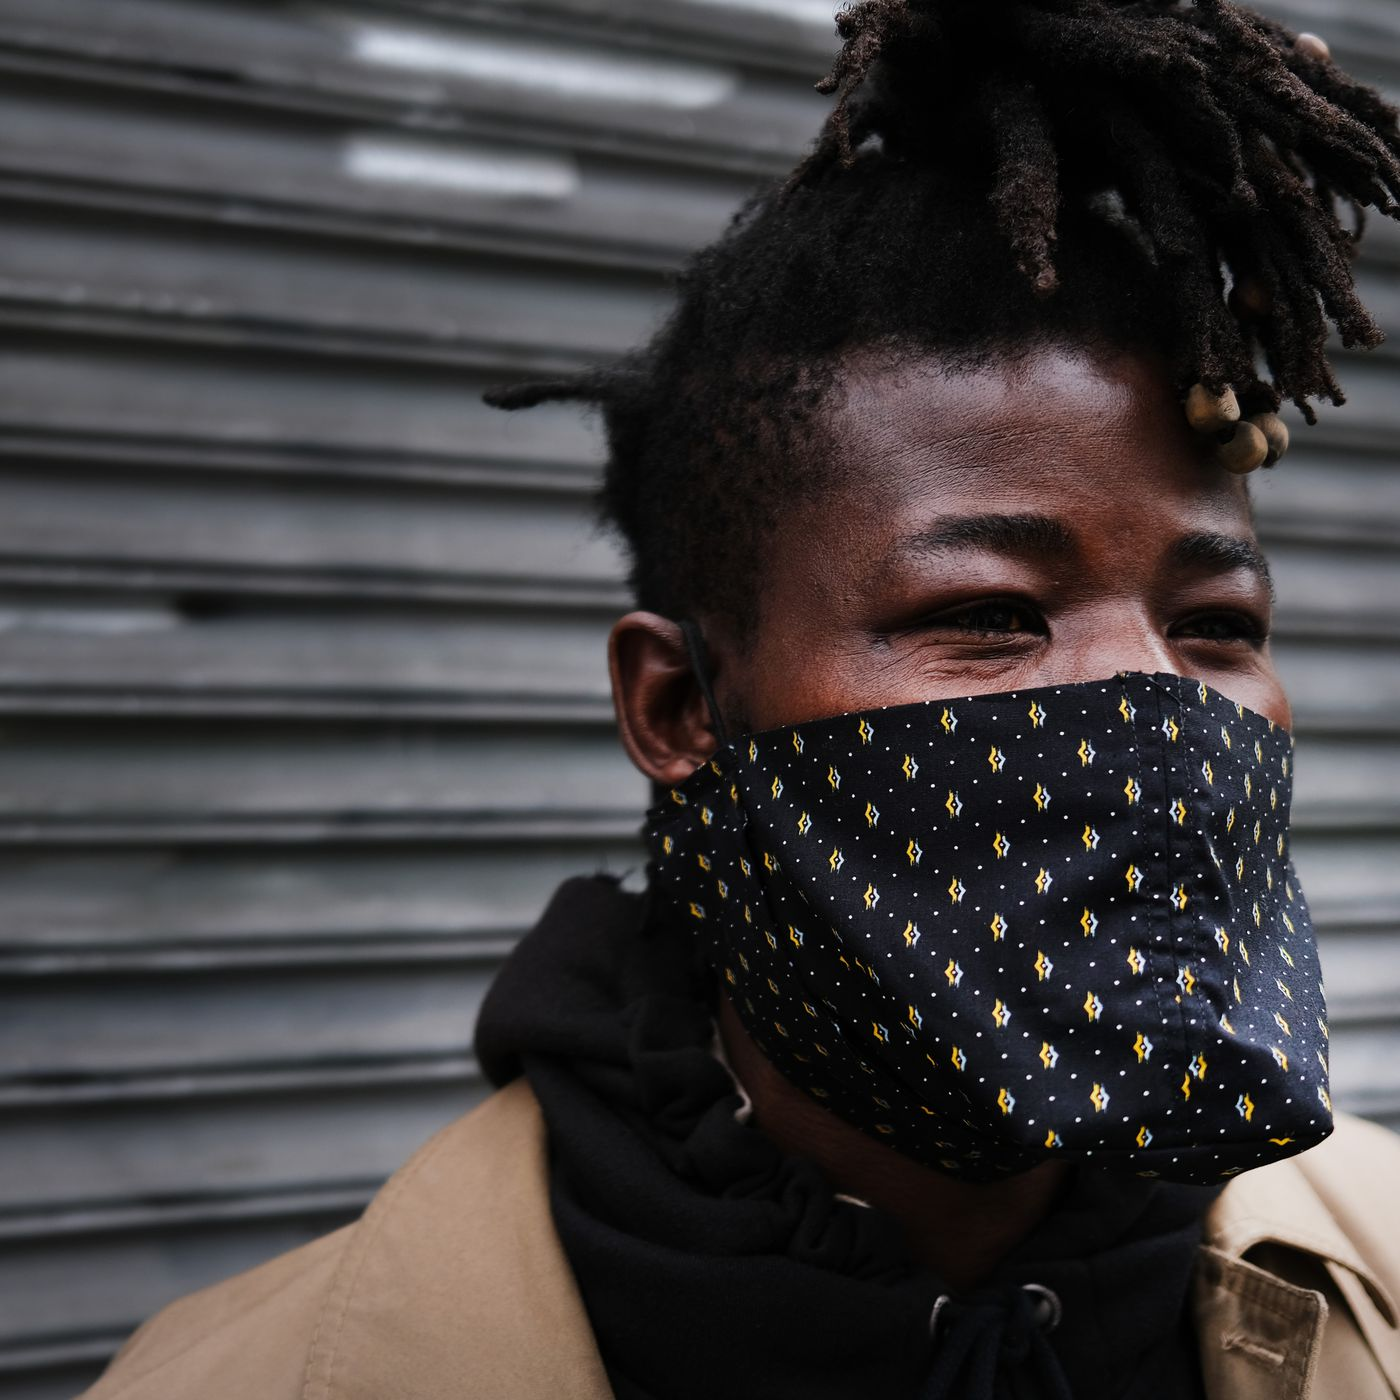with_mask: (597, 232, 1400, 1178)
